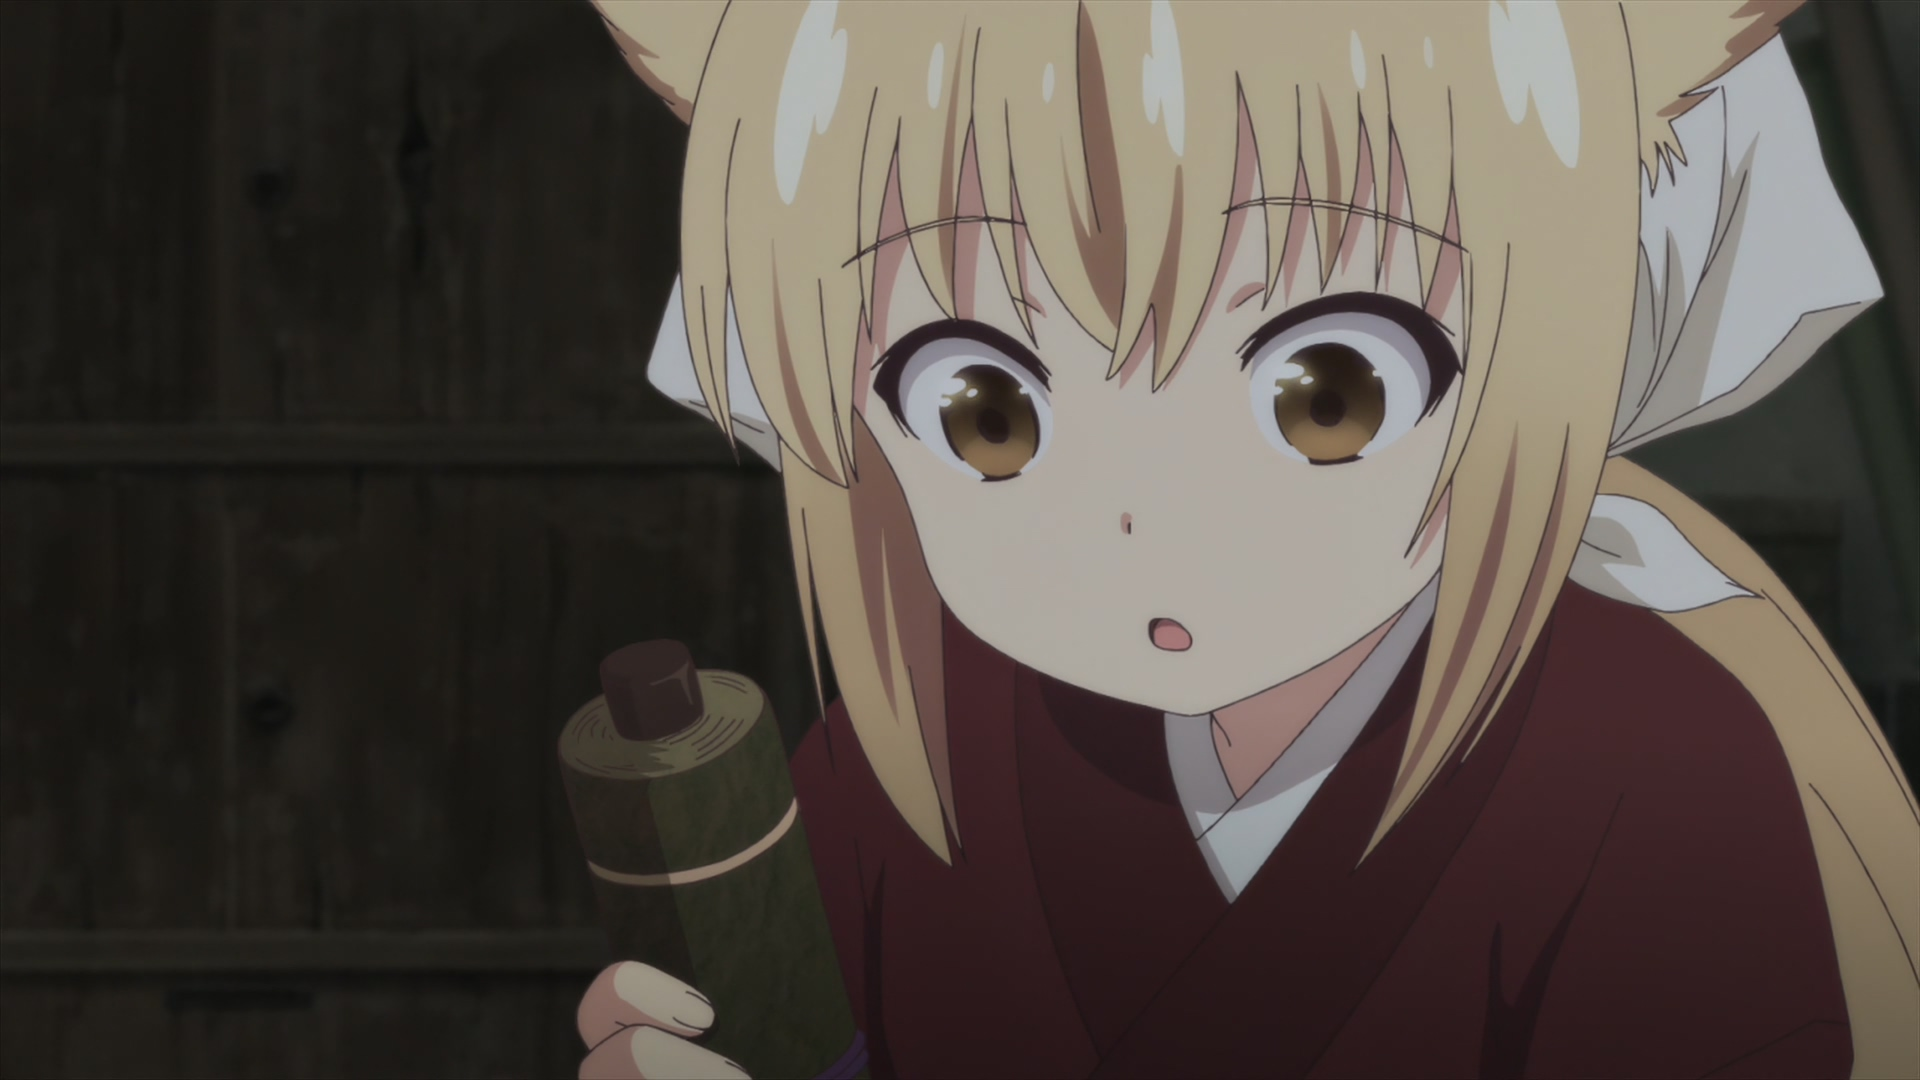柚: (579, 1, 1920, 1080)
